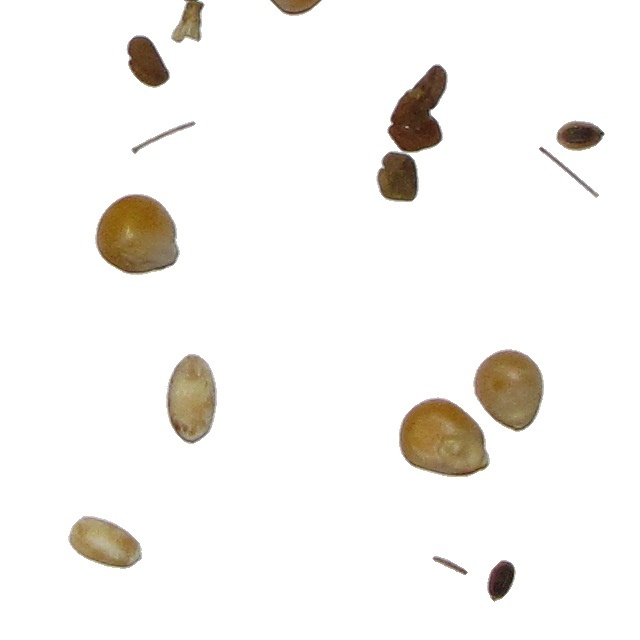buckwheat: (386, 63, 449, 154), (125, 34, 171, 89), (375, 150, 420, 203), (555, 119, 606, 152), (486, 559, 517, 603)
dill: (538, 145, 600, 199), (130, 120, 197, 155)
mais: (398, 396, 491, 478), (94, 193, 181, 276), (472, 348, 545, 433)
other: (165, 353, 218, 445), (67, 512, 143, 567)
